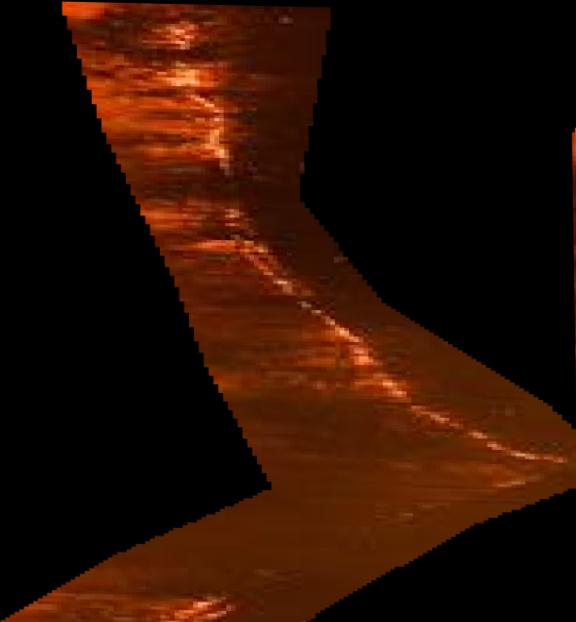fire: (1, 1, 576, 622)
